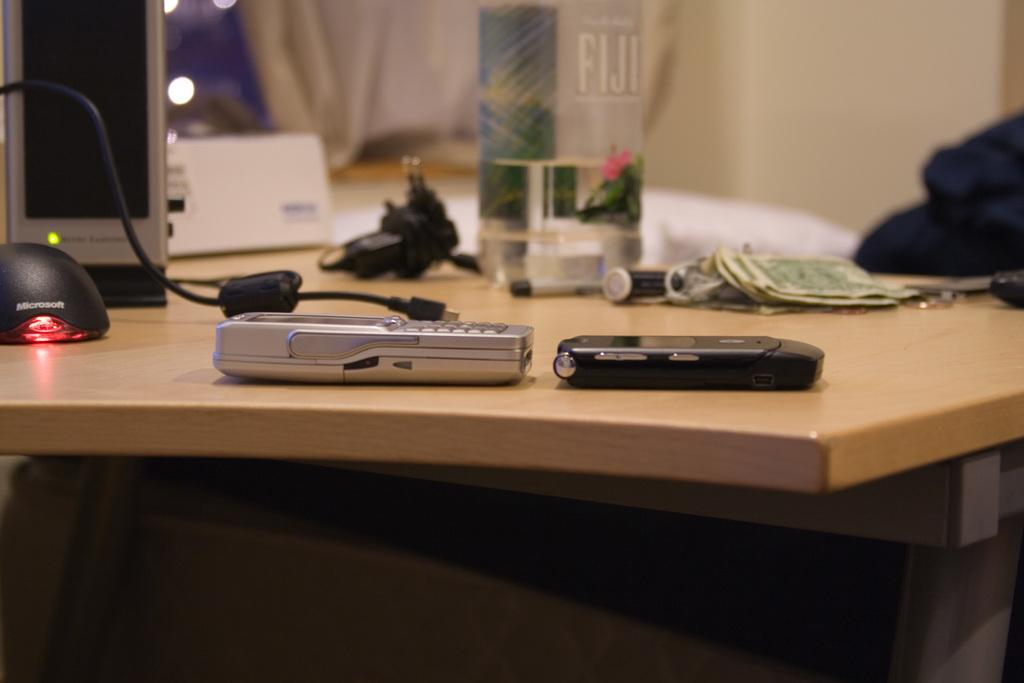Computer-mouse: (0, 241, 108, 345)
